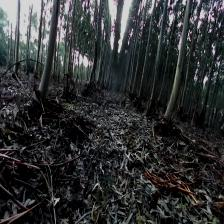trunk: (165, 3, 193, 119), (37, 5, 61, 104), (150, 26, 165, 99), (138, 45, 150, 98), (13, 6, 21, 74)
